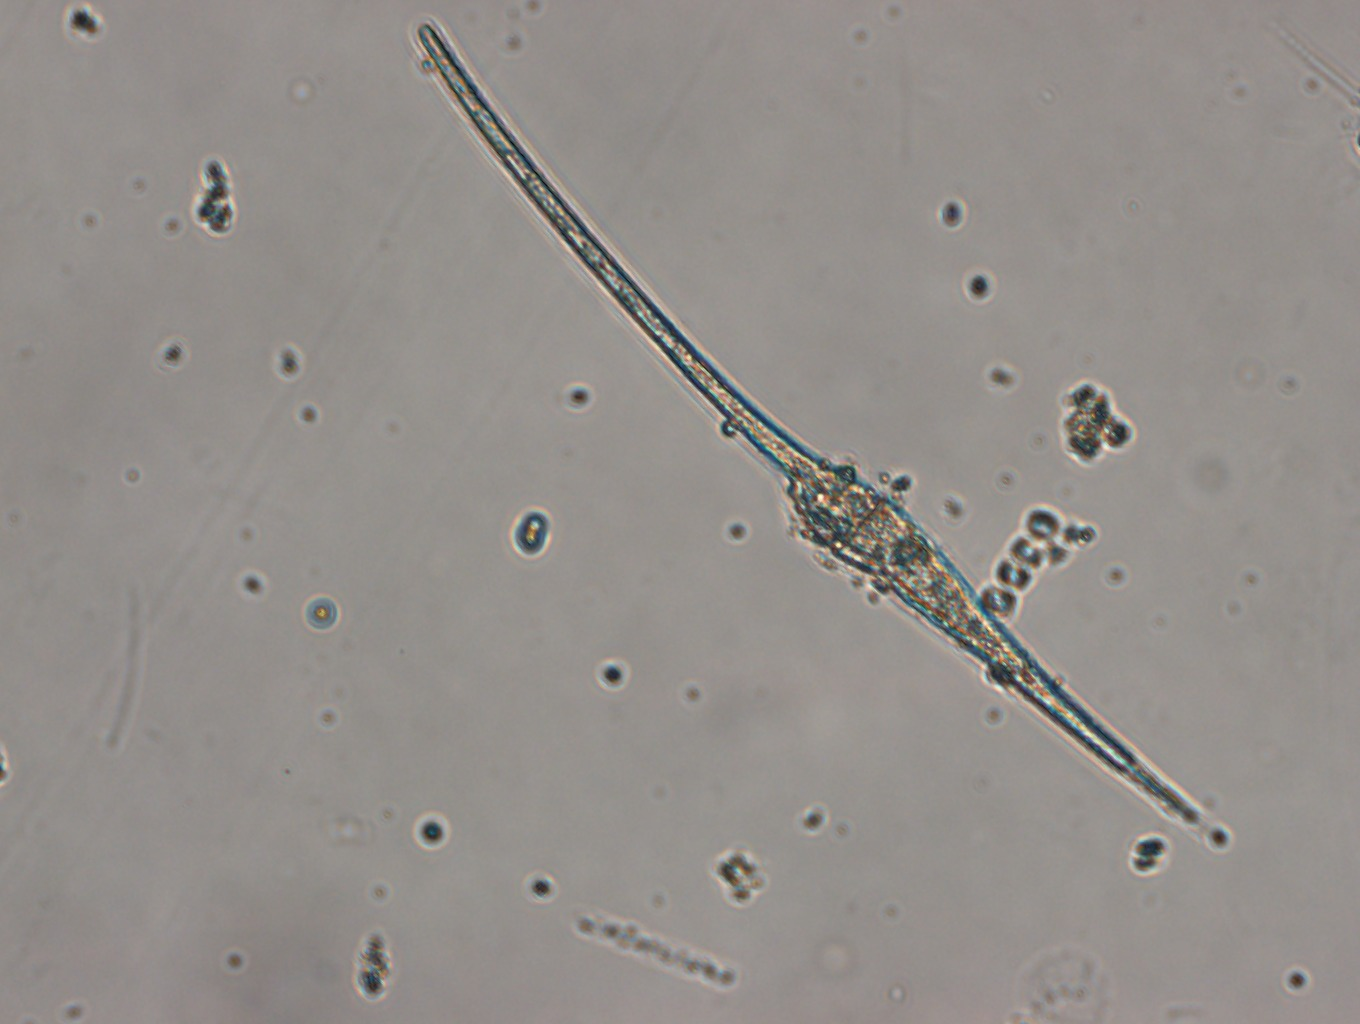ceratium fusus: (412, 14, 1235, 851)
